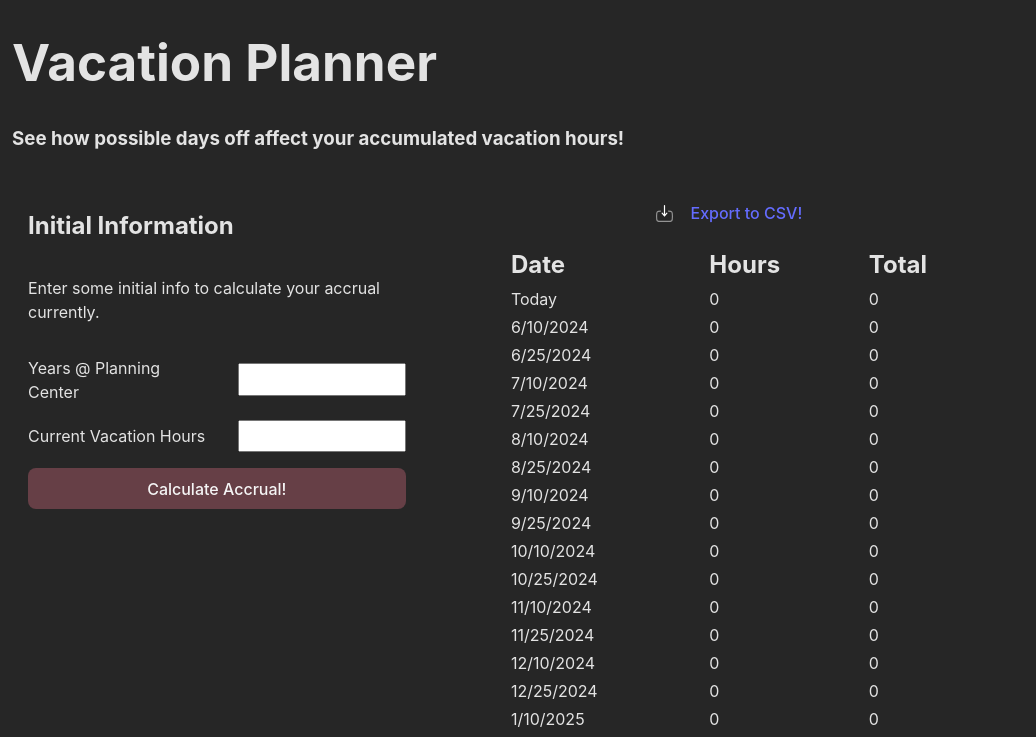
Test: renders correct hours › sets correct initial hours
The width and height of the screenshot is (1036, 737).
Type "5" into the number field next to "Years @ Planning Center" at coordinates (322, 380), box [238,363,406,396]
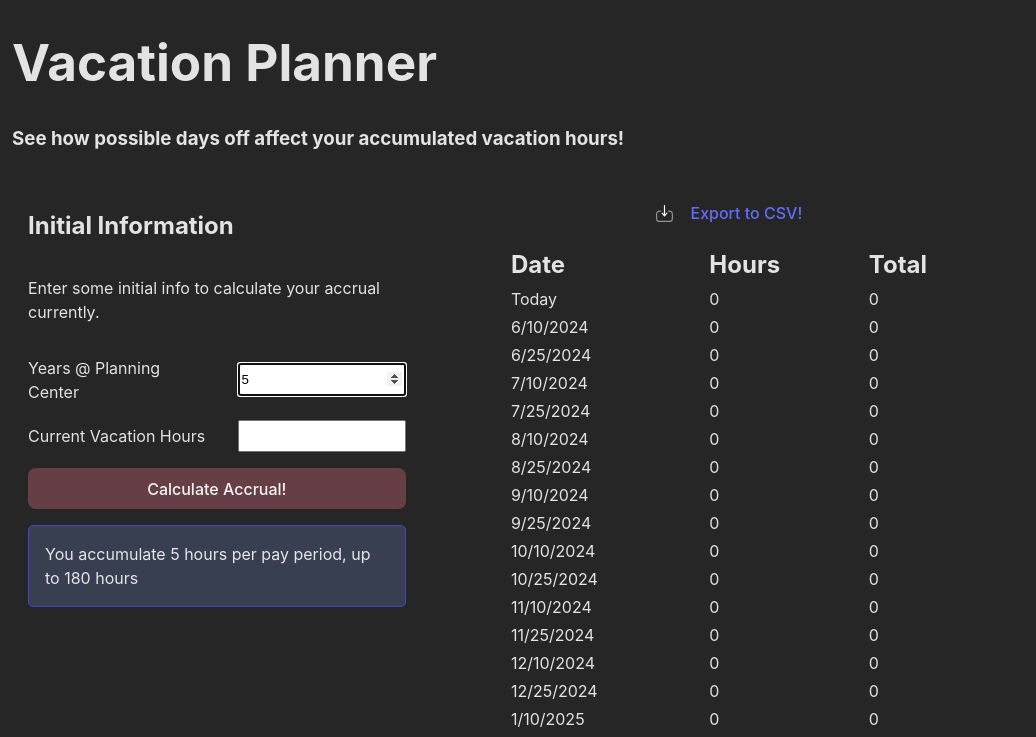
Type "150" into the number field next to "Current Vacation Hours" at coordinates (322, 436), box [238,420,406,452]
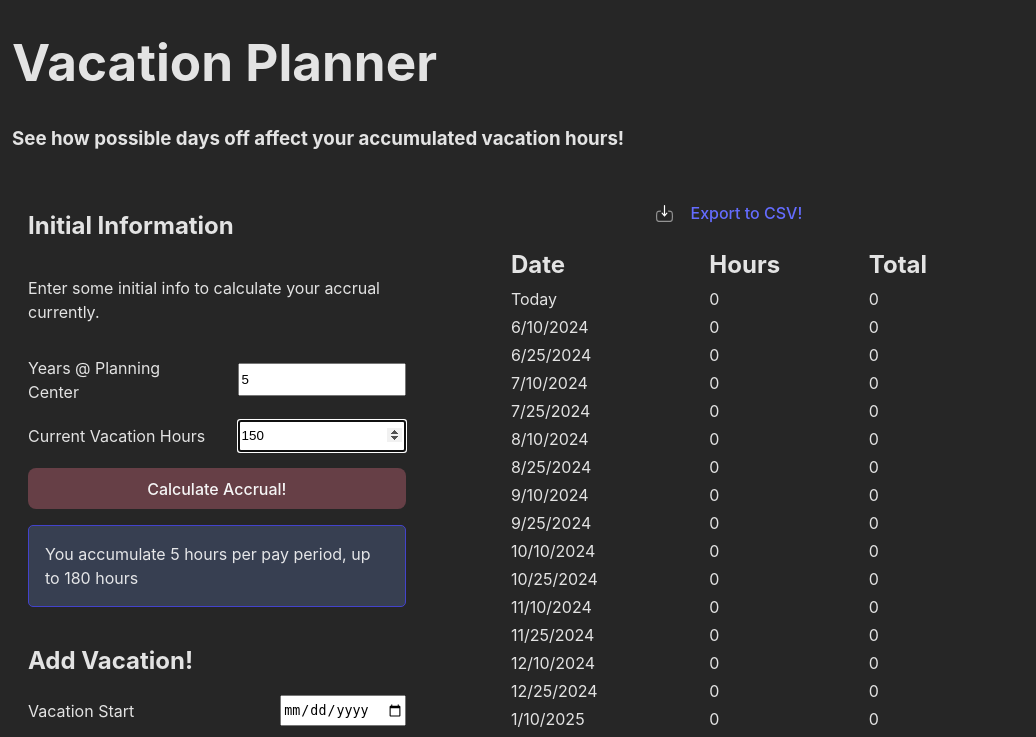
Click the button "Calculate Accrual!" at coordinates (217, 489), box [28,468,406,510]
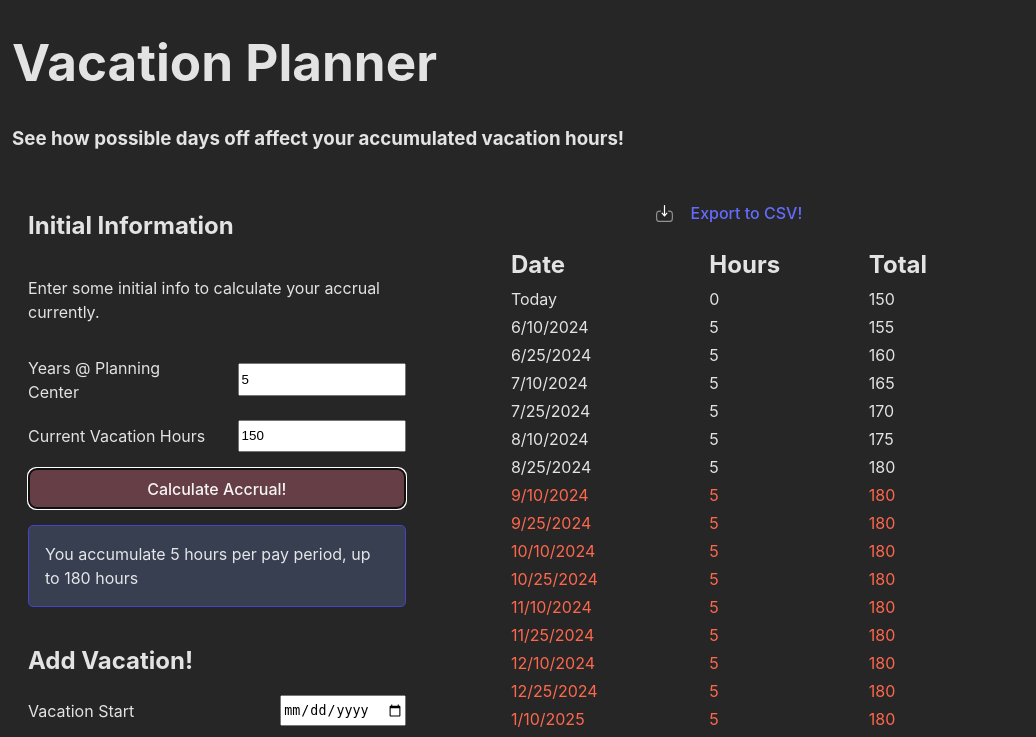
expect the text "150" is shown: met, box [869,289,895,309]
expect the text "155" is shown: met, box [869,317,894,337]
expect the text "160" is shown: met, box [869,345,895,365]
